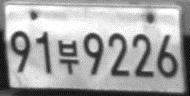1: (34, 29, 53, 75)
2: (131, 32, 155, 79), (108, 33, 131, 76)
6: (156, 34, 179, 78)
9: (82, 31, 105, 76), (9, 29, 31, 73)
부: (57, 39, 80, 74)
